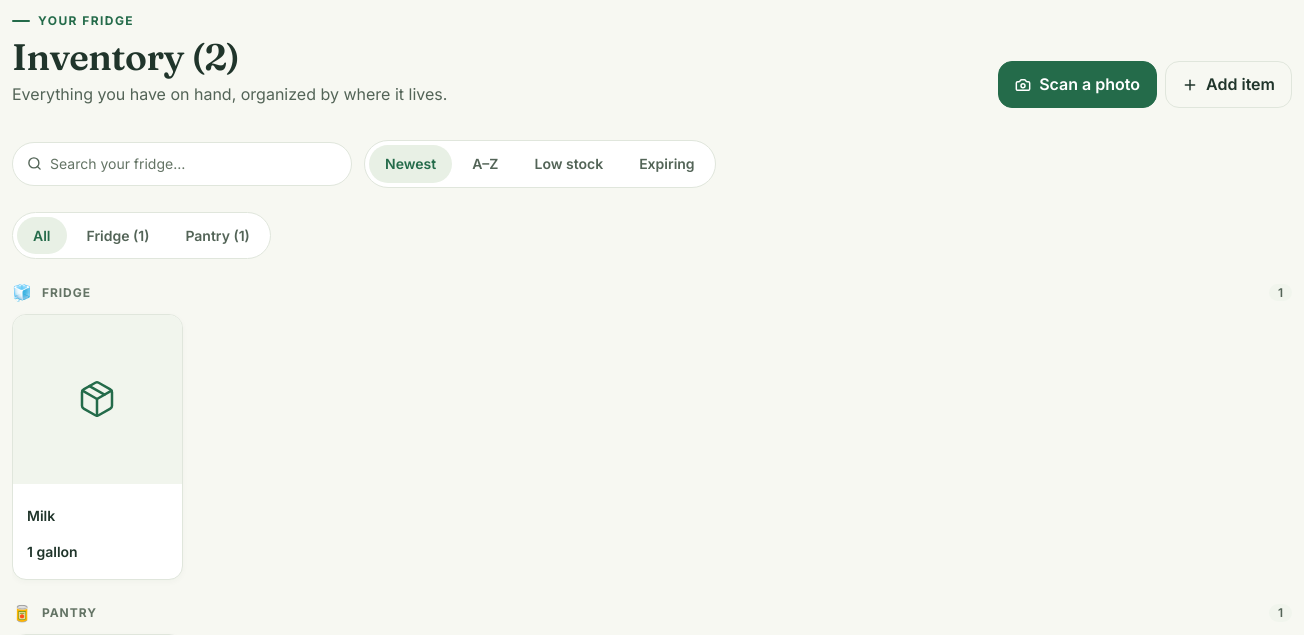
Test: keeps a zero-match storage filter visible and offers search across all locations
This screenshot has width=1304, height=635.
Step 1. Click the button "Pantry (1)" → [218, 235], box [169,217,266,254]
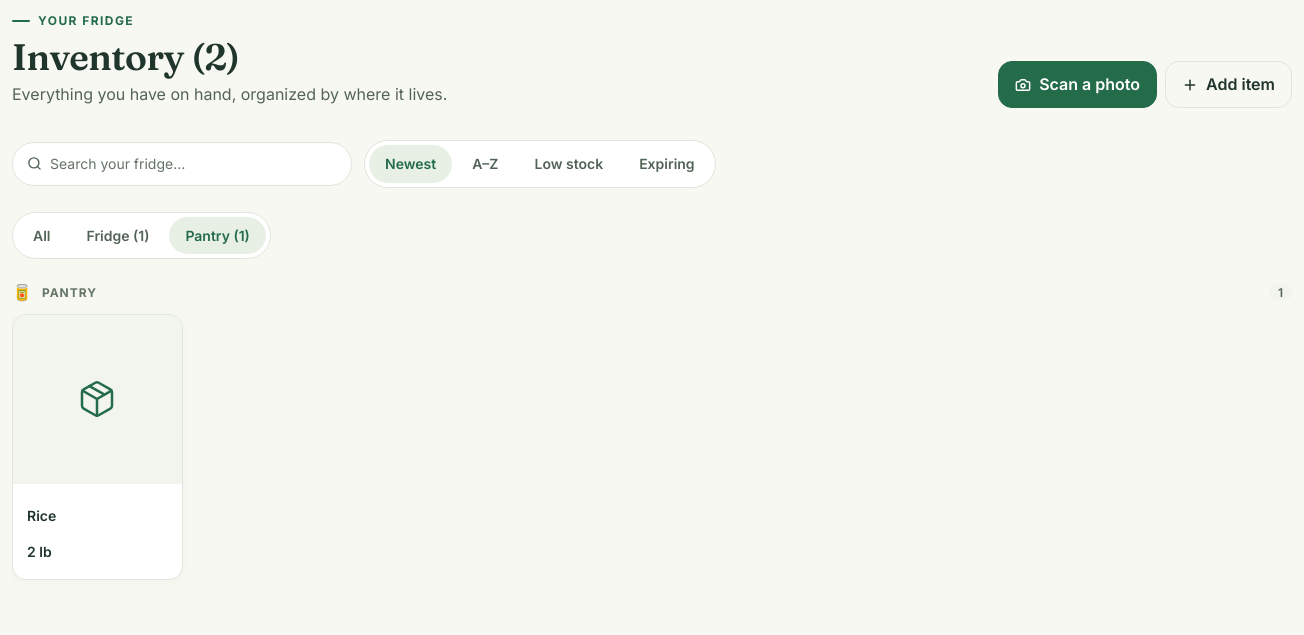
Step 2. Type "milk" into the search field → [194, 164], box [50,143,337,185]
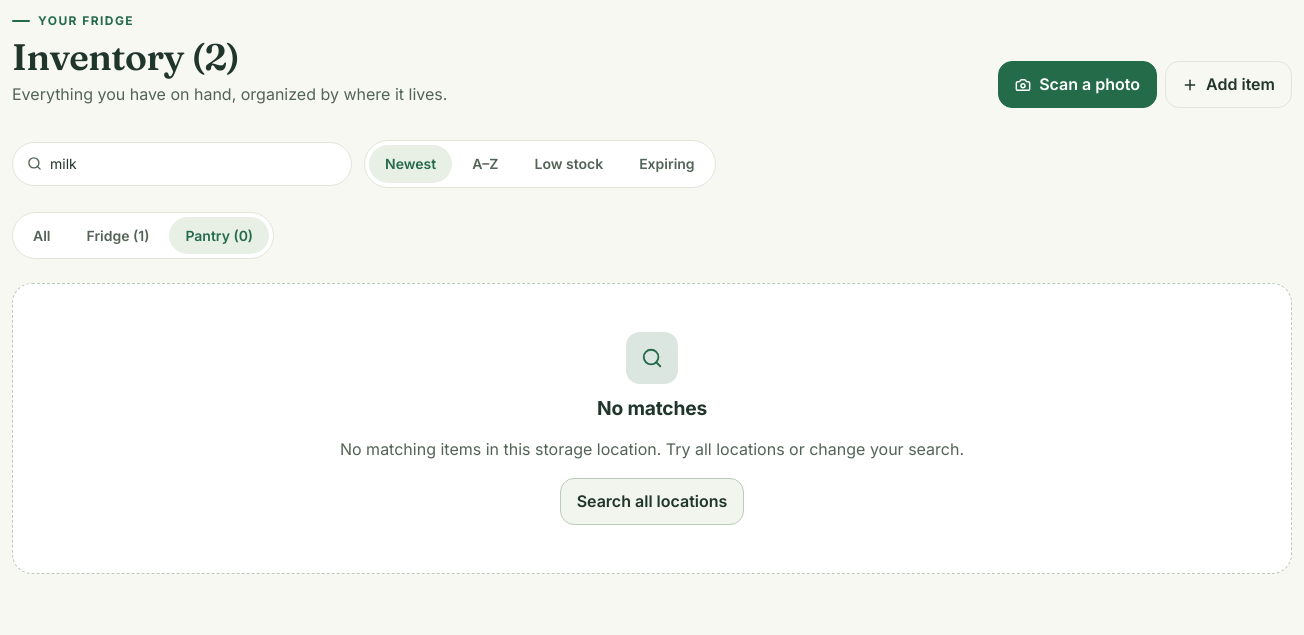
Expected: the button "Pantry (0)" is shown, [169,217,269,254]
Expected: the heading "No matches" is shown, [597,396,707,420]
Step 3. Click the button "Search all locations" → [652, 502], box [560,478,744,525]
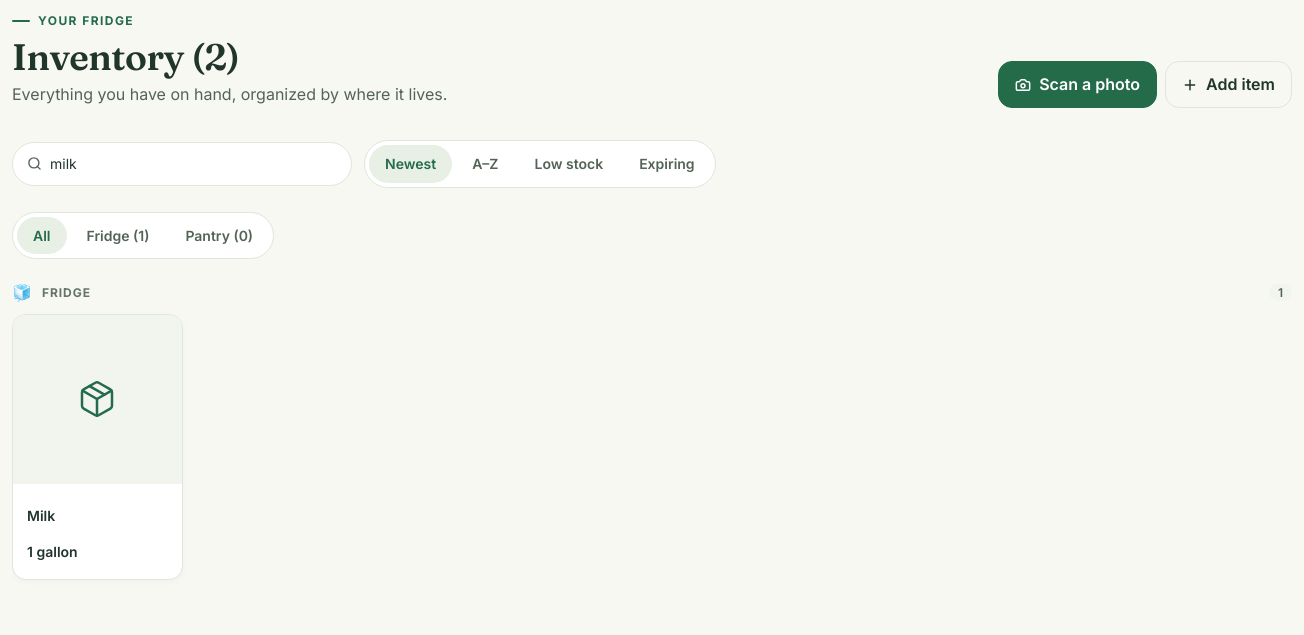
Expected: the text "milk" is shown, [27,506,55,524]
